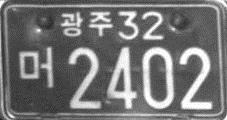0: (139, 45, 176, 110)
2: (66, 46, 104, 110), (180, 44, 214, 111), (138, 9, 166, 44)
3: (116, 9, 140, 40)
4: (108, 46, 138, 109)
광주_O: (60, 10, 113, 38)
머: (19, 43, 56, 88)
